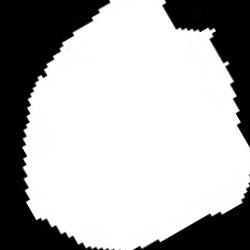spot: (24, 3, 248, 248)
